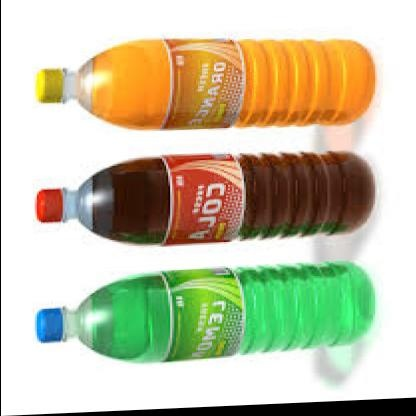trash: (37, 262, 374, 361), (36, 152, 374, 243), (78, 39, 374, 128)
